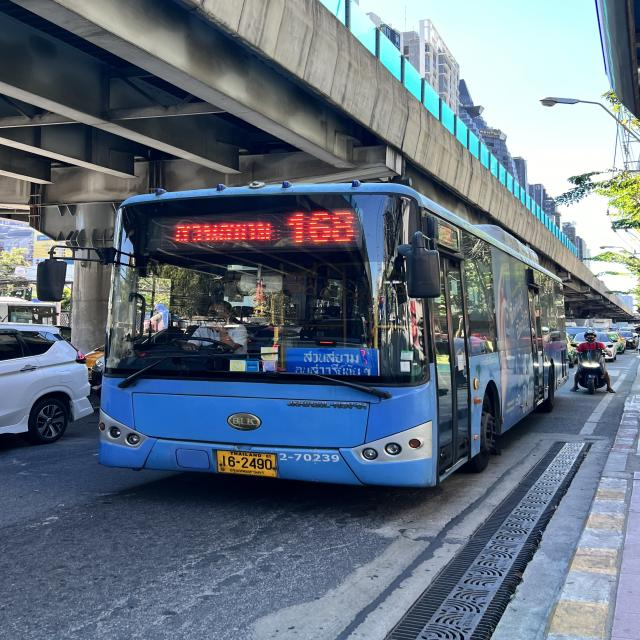BMTA-bus: (96, 181, 570, 491)
Bus Line Number: (283, 206, 364, 248)
Bus Side Number: (279, 450, 348, 464)
Destination Sign: (286, 349, 379, 376)
